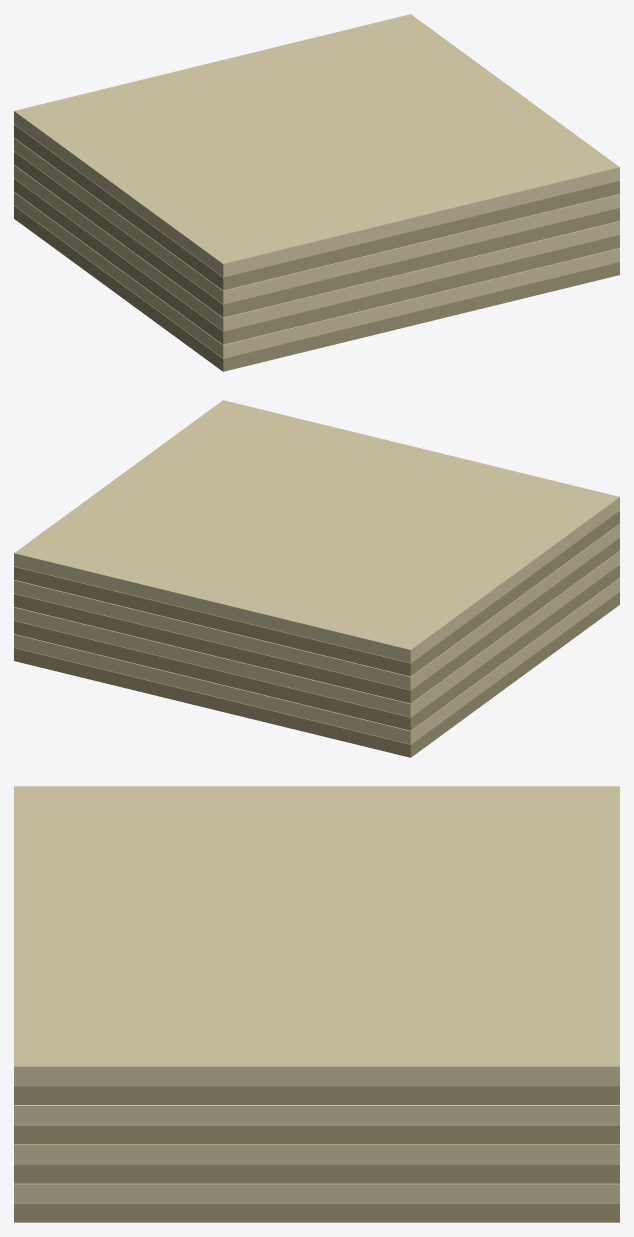
Rendered from paper.glb.
3 renders of one model, top to bottom at view 1: azimuth 30°, elevation 25°; view 2: azimuth 150°, elevation 25°; view 3: azimuth 270°, elevation 25°, orthographic. The views are drawn at different scales.
Visible parts, largest first — view 1: PaperLayer_7, PaperLayer_1, PaperLayer_0, PaperLayer_4, PaperLayer_2, PaperLayer_3, PaperLayer_5, PaperLayer_6; view 2: PaperLayer_7, PaperLayer_1, PaperLayer_0, PaperLayer_4, PaperLayer_2, PaperLayer_3, PaperLayer_5, PaperLayer_6; view 3: PaperLayer_7, PaperLayer_1, PaperLayer_4, PaperLayer_0, PaperLayer_2, PaperLayer_3, PaperLayer_5, PaperLayer_6.
Boxes of the visible parts, x1,y1,x2,y2 form: PaperLayer_7: [14, 14, 619, 276]; PaperLayer_1: [14, 192, 619, 358]; PaperLayer_0: [14, 205, 619, 371]; PaperLayer_4: [14, 151, 619, 317]; PaperLayer_2: [14, 178, 619, 344]; PaperLayer_3: [14, 165, 619, 330]; PaperLayer_5: [14, 138, 619, 303]; PaperLayer_6: [14, 124, 619, 290]; PaperLayer_7: [14, 400, 619, 662]; PaperLayer_1: [14, 578, 619, 744]; PaperLayer_0: [14, 591, 619, 757]; PaperLayer_4: [14, 537, 619, 703]; PaperLayer_2: [14, 564, 619, 730]; PaperLayer_3: [14, 551, 619, 716]; PaperLayer_5: [14, 524, 619, 689]; PaperLayer_6: [14, 510, 619, 676]; PaperLayer_7: [14, 786, 619, 1085]; PaperLayer_1: [14, 1183, 619, 1203]; PaperLayer_4: [14, 1124, 619, 1144]; PaperLayer_0: [14, 1203, 619, 1222]; PaperLayer_2: [14, 1164, 619, 1183]; PaperLayer_3: [14, 1144, 619, 1163]; PaperLayer_5: [14, 1105, 619, 1124]; PaperLayer_6: [14, 1085, 619, 1104].
Size of the model in its own units: 0.46 by 0.1194 by 0.42.
